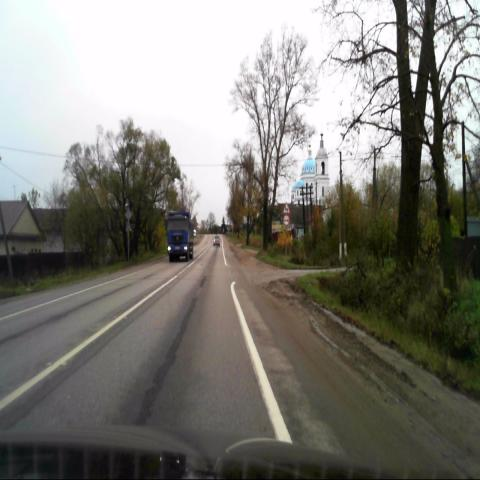1_12_2: (283, 201, 290, 214)
3_20: (283, 215, 290, 225)
